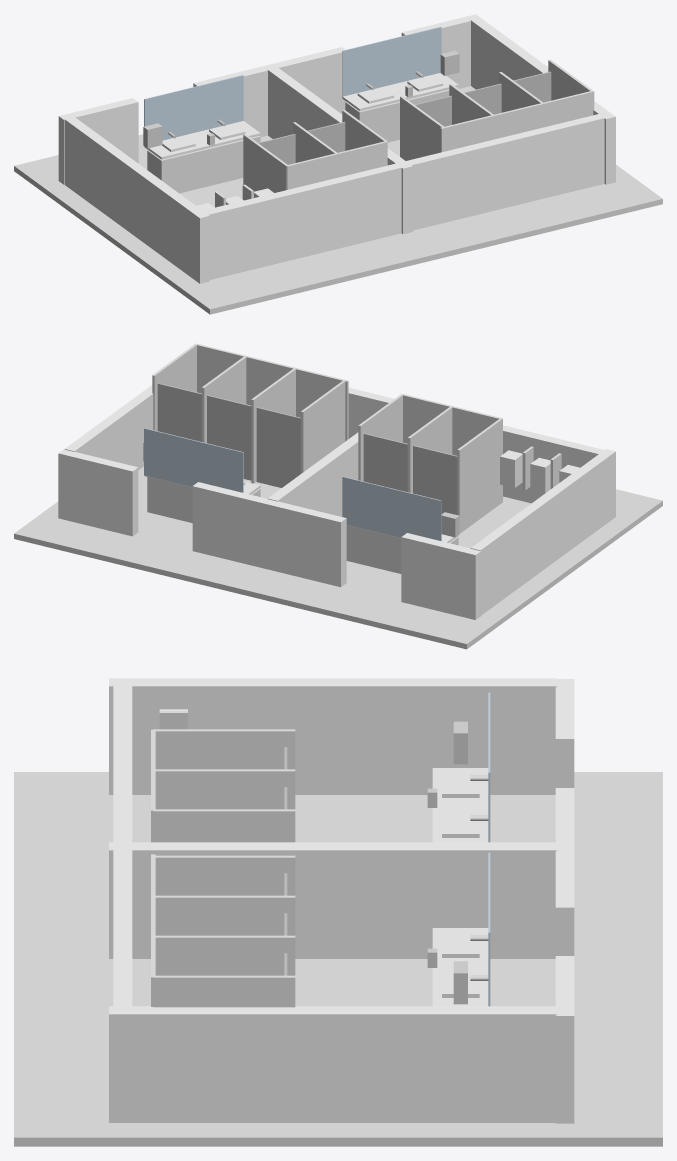
File: Toilet.glb
3 renders of one model, top to bottom at view 1: azimuth 30°, elevation 25°; view 2: azimuth 150°, elevation 25°; view 3: azimuth 270°, elevation 25°, orthographic. The views are drawn at different scales.
Visible parts, largest first — view 1: outer_wall_north, bathroom_floor, outer_wall_west, womens_mirror, mens_mirror, dividing_wall, outer_wall_east, womens_stall_back, mens_sink_base, mens_entry_wall, mens_stall_back, womens_entry_wall (+19 smaller); view 2: bathroom_floor, outer_wall_west, womens_entry_wall_right, mens_entry_wall, mens_entry_wall_right, womens_entry_wall, mens_mirror, womens_mirror, womens_stall_back, mens_stall_partition_1, outer_wall_north, outer_wall_east (+17 smaller); view 3: bathroom_floor, outer_wall_east, outer_wall_west, dividing_wall, outer_wall_north, womens_stall_partition_1, womens_stall_partition_3, womens_stall_partition_2, mens_stall_partition_1, mens_stall_partition_2, mens_stall_partition_3, womens_stall_partition_4 (+10 smaller).
Boxes of the visible parts, x1,y1,x2,y2 form: outer_wall_north: (203, 114, 604, 279); bathroom_floor: (14, 86, 662, 314); outer_wall_west: (64, 117, 209, 283); womens_mirror: (342, 26, 441, 97); mens_mirror: (144, 75, 243, 140); dividing_wall: (268, 67, 412, 234); outer_wall_east: (470, 18, 615, 184); womens_stall_back: (440, 91, 594, 152); mens_sink_base: (147, 136, 260, 193); mens_entry_wall: (58, 98, 138, 184); mens_stall_back: (286, 141, 387, 189); womens_entry_wall: (268, 47, 345, 114); bathroom_floor: (14, 466, 662, 649); outer_wall_west: (470, 449, 615, 615); womens_entry_wall_right: (58, 449, 138, 536); mens_entry_wall: (401, 533, 481, 619); mens_entry_wall_right: (267, 500, 346, 587); womens_entry_wall: (192, 482, 271, 569); mens_mirror: (342, 476, 441, 541); womens_mirror: (144, 428, 243, 492); womens_stall_back: (195, 343, 348, 441); mens_stall_partition_1: (457, 418, 502, 533); outer_wall_north: (348, 387, 603, 503); outer_wall_east: (64, 385, 153, 469); bathroom_floor: (14, 772, 662, 1146); outer_wall_east: (109, 1006, 556, 1122); outer_wall_west: (109, 678, 556, 794); dividing_wall: (109, 842, 556, 958); outer_wall_north: (113, 686, 132, 1006); womens_stall_partition_1: (153, 855, 295, 895); womens_stall_partition_3: (154, 935, 295, 975); womens_stall_partition_2: (155, 895, 295, 935); mens_stall_partition_1: (153, 729, 295, 769); mens_stall_partition_2: (155, 769, 295, 809); mens_stall_partition_3: (153, 809, 295, 842); womens_stall_partition_4: (153, 975, 295, 1007).
Bounding box in the file's own units: 9.14 × 1.76 × 6.86.
